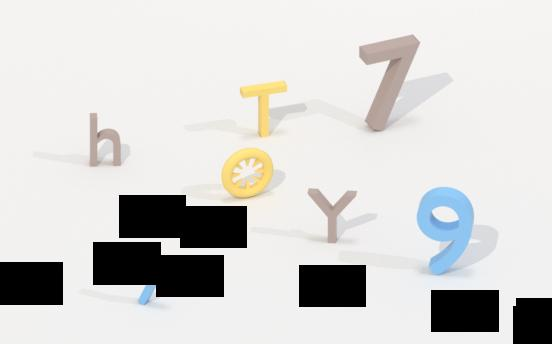7: (348, 35, 424, 135), (128, 247, 176, 308)
9: (415, 187, 478, 279)
Y-hoa: (304, 182, 359, 246)
h: (87, 107, 128, 169)
t-hoa: (233, 78, 295, 137)
tron: (219, 145, 277, 199)
